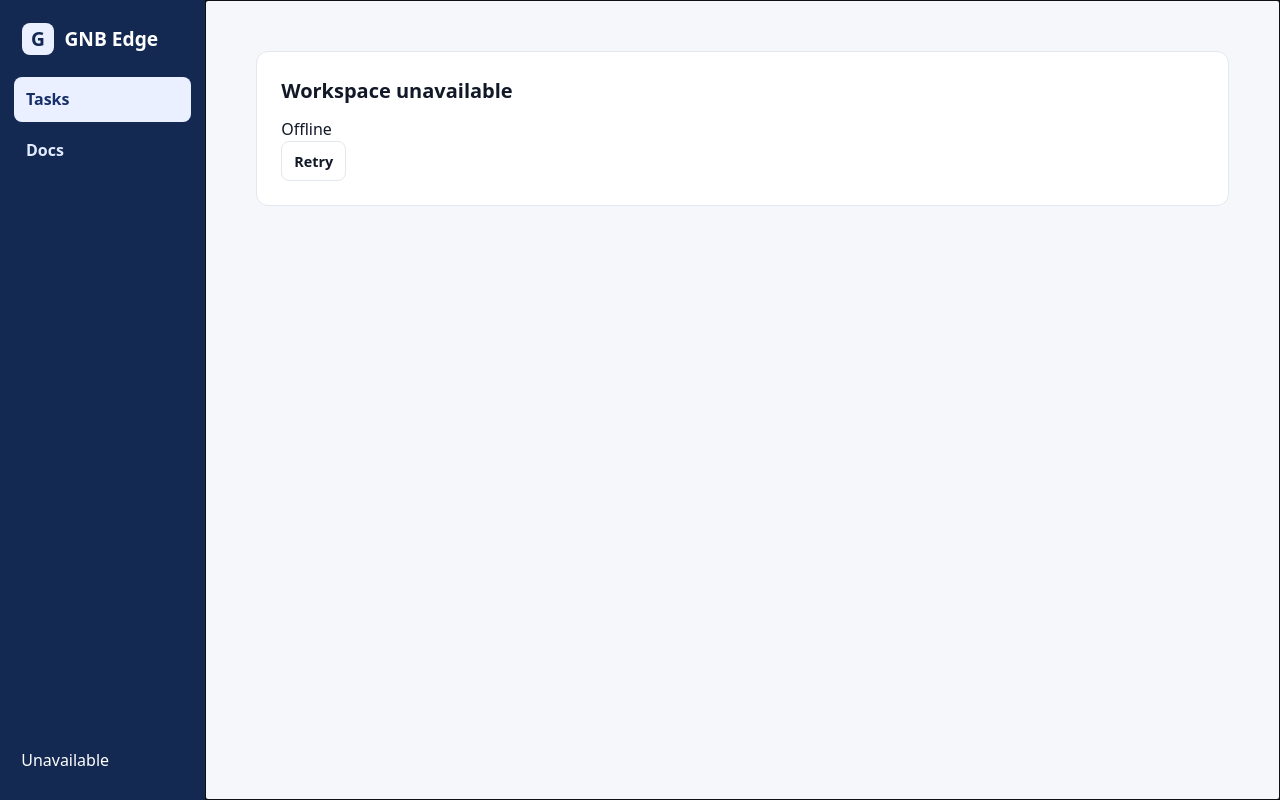
it: Existing board workflows in React › offers retry when the initial connection fails
expect the heading "Workspace unavailable" is shown: met, box [281,77,513,104]
Click the button "Retry": (314, 161) [281,141,346,181]
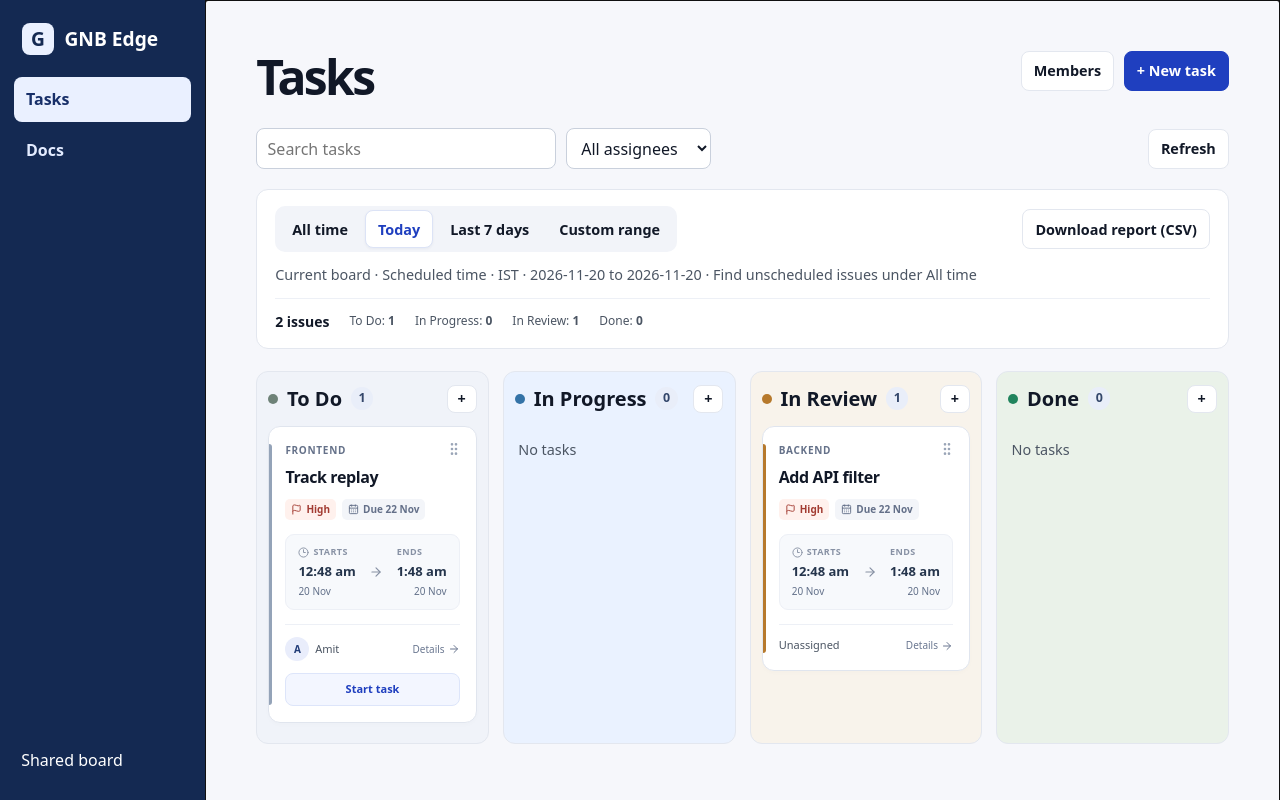
expect the heading "Track replay" is shown: met, box [285,466,378,488]
